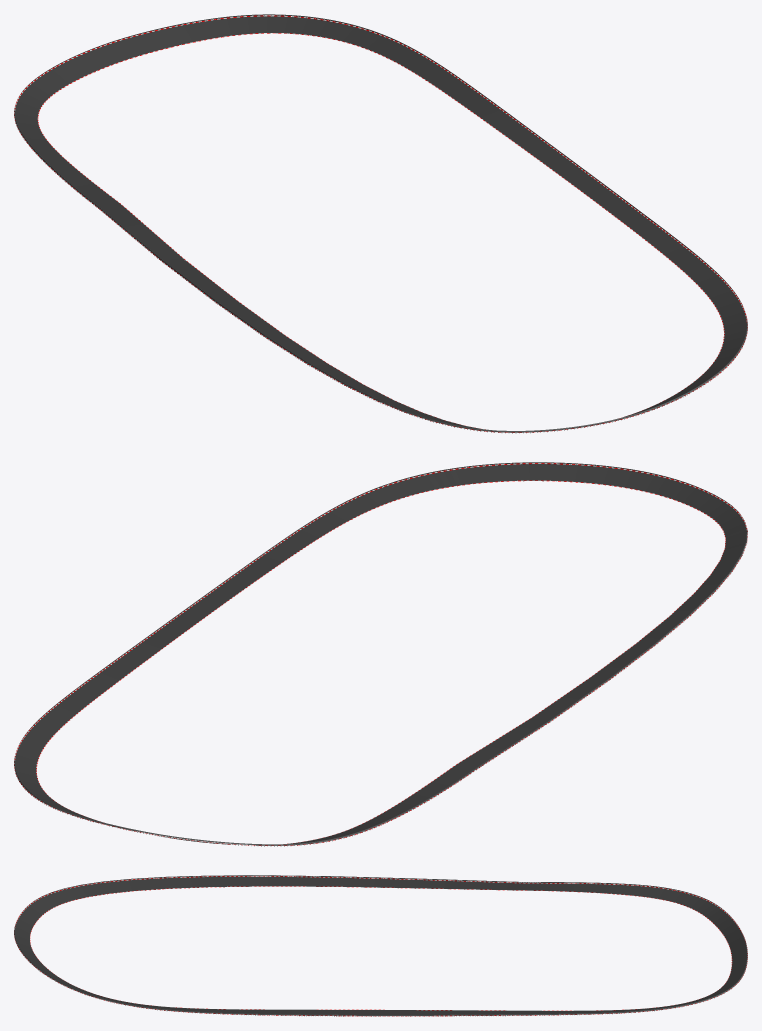
File: road (1) barrier (1).fbx
3 views of the same model, one above another, from view 1: azimuth 30°, elevation 25°; view 2: azimuth 150°, elevation 25°; view 3: azimuth 270°, elevation 25° (orthographic). The views are drawn at different scales.
Parts seen in each view (by area): view 1: Plane, Cube.001; view 2: Plane, Cube.001; view 3: Plane, Cube.001.
Part boxes in pixels (left/top/right/bottom): Plane: left=14, top=15, right=747, bottom=432; Cube.001: left=14, top=14, right=747, bottom=433; Plane: left=14, top=463, right=747, bottom=845; Cube.001: left=14, top=462, right=747, bottom=846; Plane: left=14, top=876, right=747, bottom=1016; Cube.001: left=14, top=875, right=747, bottom=1016.
Bounding box in the file's own units: 149818 × 5616 × 329817.
